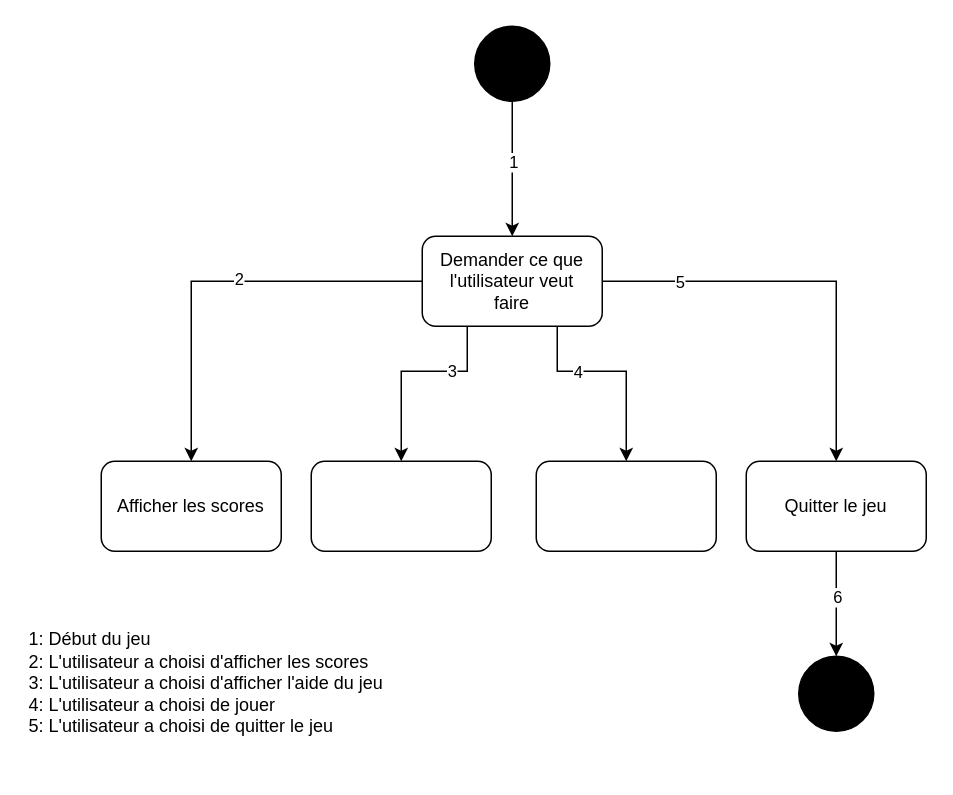
Image size: 953x795. Some labels were removed from this diagram. Here are the shapes that lost their labels. From the top down, the centre of each, then its label:
At [400,505]: "Afficher l'aide du jeu".
At [625,505]: "Jouer".
